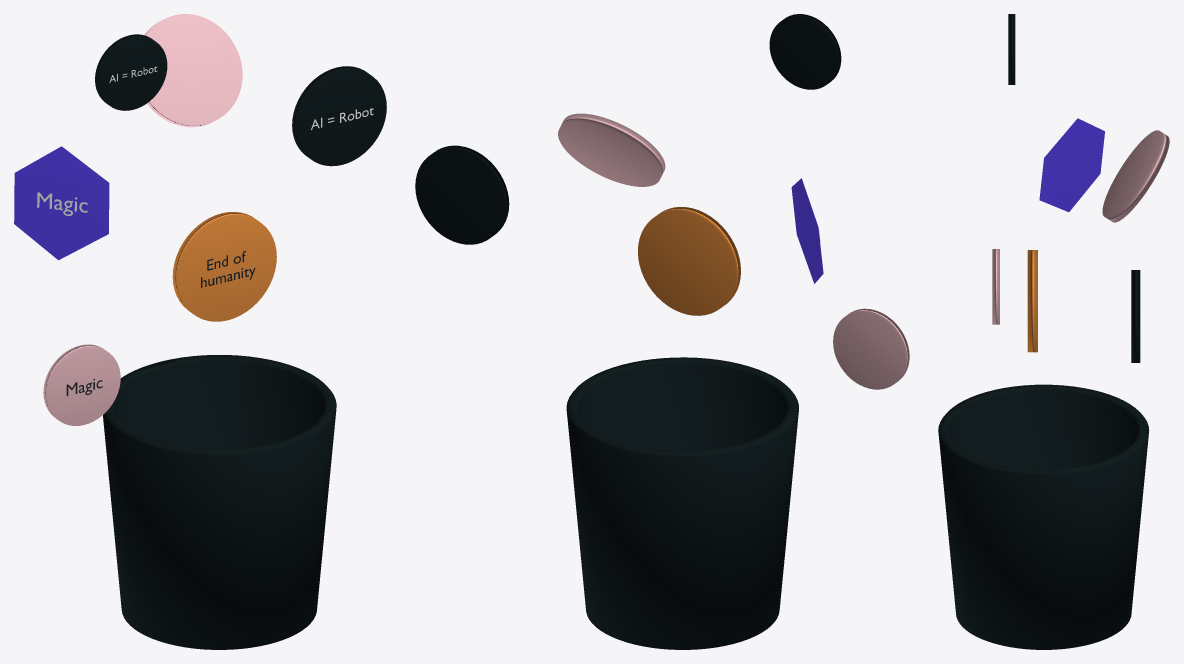
3 views of the same model, side by side, from view 1: azimuth 30°, elevation 25°; view 2: azimuth 150°, elevation 25°; view 3: azimuth 270°, elevation 25° (orthographic). The views are drawn at different scales.
Visible parts, largest first — view 1: Cylinder, Cylinder.003, Cylinder.001, Icosphere, Cylinder.002, Cylinder.004, Cylinder.005; view 2: Cylinder, Cylinder.003, Cylinder.002, Cylinder.001, Cylinder.004, Cylinder.005, Icosphere; view 3: Cylinder, Icosphere, Cylinder.001, Cylinder.003, Cylinder.002, Cylinder.004, Cylinder.005.
Part boxes in pixels (box(x1,y1,x2,y2)): Cylinder: box(103, 355, 336, 649); Cylinder.003: box(172, 212, 276, 321); Cylinder.001: box(144, 14, 242, 127); Icosphere: box(14, 146, 109, 260); Cylinder.002: box(292, 66, 386, 166); Cylinder.004: box(43, 344, 120, 425); Cylinder.005: box(95, 34, 167, 110); Cylinder: box(566, 357, 798, 649); Cylinder.003: box(638, 207, 740, 315); Cylinder.002: box(415, 145, 509, 244); Cylinder.001: box(558, 113, 665, 186); Cylinder.004: box(833, 308, 909, 389); Cylinder.005: box(769, 14, 841, 89); Icosphere: box(791, 178, 823, 283); Cylinder: box(938, 384, 1149, 649); Icosphere: box(1039, 118, 1104, 212); Cylinder.001: box(1102, 130, 1169, 222); Cylinder.003: box(1027, 250, 1037, 352); Cylinder.002: box(1131, 270, 1140, 362); Cylinder.004: box(992, 249, 999, 324); Cylinder.005: box(1008, 14, 1015, 84).
Size of the model in its own units: 4.92 by 6.9 by 2.63.
